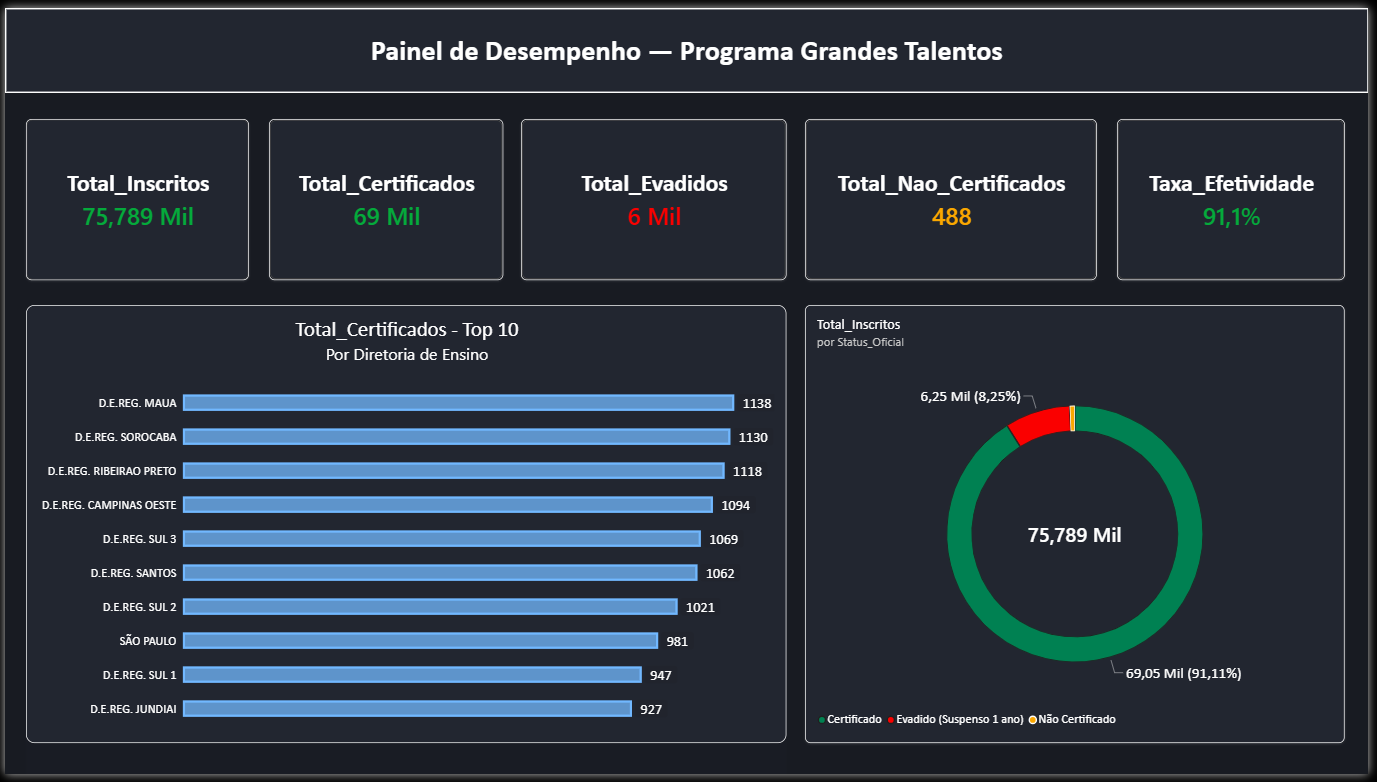

What the dashboard file says about the page in this screenshot:
{"tool":"powerbi","page":{"name":"Painel Desempenho","canvas":[1920,1080],"ordinal":0},"visuals":[{"type":"cardVisual","fields":{"Data":["base_tratada_grandes_talentos.Taxa_Efetividade"]},"box":[1565.7,155.7,321.4,227.1],"z":0},{"type":"barChart","title":"Total_Certificados - Top 10","fields":{"Category":["base_tratada_grandes_talentos.Diretoria de Ensino"],"Y":["base_tratada_grandes_talentos.Total_Certificados"]},"box":[30,418.6,1071.4,617.1],"z":1000},{"type":"cardVisual","fields":{"Data":["base_tratada_grandes_talentos.Total_Evadidos"]},"box":[727.1,155.7,374.3,227.1],"z":2000},{"type":"cardVisual","fields":{"Data":["base_tratada_grandes_talentos.Total_Certificados"]},"box":[371.4,155.7,330,227.1],"z":3000},{"type":"cardVisual","fields":{"Data":["base_tratada_grandes_talentos.Total_Inscritos"]},"box":[30,155.7,314.3,227.1],"z":4000},{"type":"shape","box":[0,0,1920.6,119.7],"z":5000},{"type":"cardVisual","fields":{"Data":["base_tratada_grandes_talentos.Total_Nao_Certificados"]},"box":[1127.1,155.7,411.4,227.1],"z":6000},{"type":"donutChart","fields":{"Category":["base_tratada_grandes_talentos.Status_Oficial"],"Y":["base_tratada_grandes_talentos.Total_Inscritos"]},"box":[1127.1,418.6,760,617.1],"z":7000}]}

Visuals, with their boxes in screenshot pixels (x1, y1, x2, y2), scaled from the page's 1920x1080 canvas onto the 1377x782 screenshot:
cardVisual - base_tratada_grandes_talentos.Taxa_Efetividade: left=1123, top=113, right=1353, bottom=277
"Total_Certificados - Top 10" barChart: left=22, top=303, right=790, bottom=750
cardVisual - base_tratada_grandes_talentos.Total_Evadidos: left=521, top=113, right=790, bottom=277
cardVisual - base_tratada_grandes_talentos.Total_Certificados: left=266, top=113, right=503, bottom=277
cardVisual - base_tratada_grandes_talentos.Total_Inscritos: left=22, top=113, right=247, bottom=277
shape: left=0, top=0, right=1376, bottom=87
cardVisual - base_tratada_grandes_talentos.Total_Nao_Certificados: left=808, top=113, right=1103, bottom=277
donutChart - base_tratada_grandes_talentos.Status_Oficial x base_tratada_grandes_talentos.Total_Inscritos: left=808, top=303, right=1353, bottom=750
